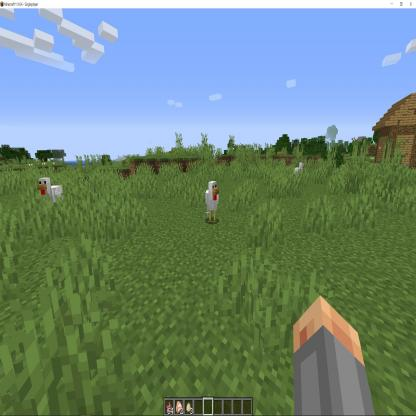minecraft-pigs: (35, 176, 68, 212), (203, 179, 222, 229), (294, 160, 307, 188)
